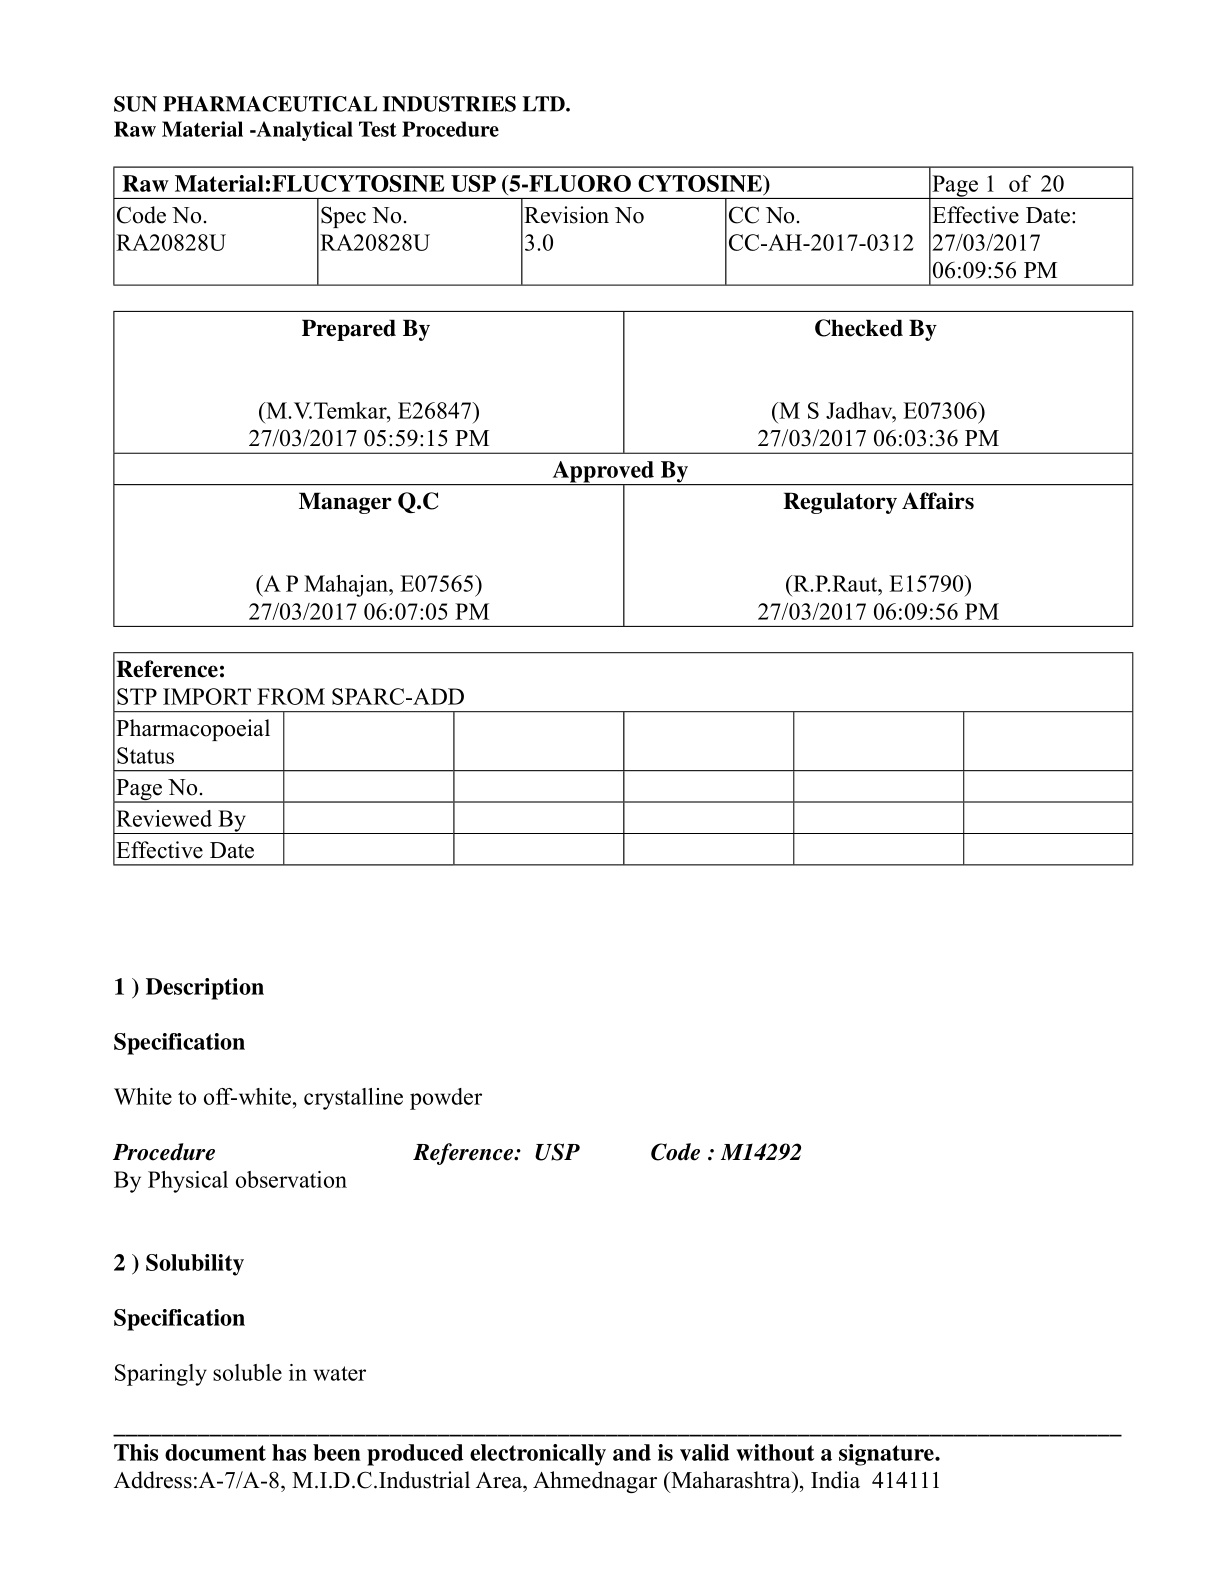merged_cells: (112, 309, 1134, 627), (111, 651, 1134, 867), (112, 165, 1134, 287)
